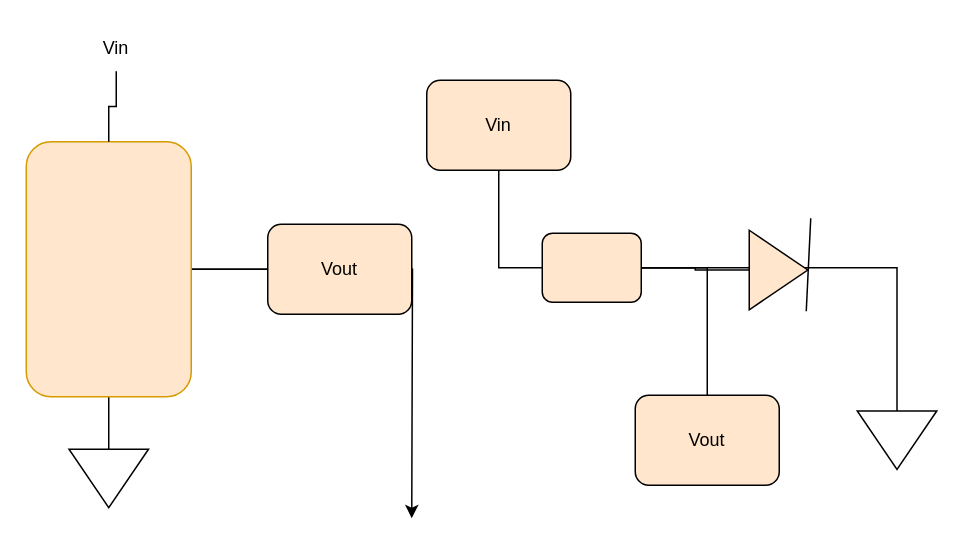
This 963x557 diagram has some shape labels left out. The shapes that lost their labels are listed below. From the top down, each one's centre as x and y in pixels, then its label:
the point at 108,268: potentiometer
the point at 591,267: 10 ohms
